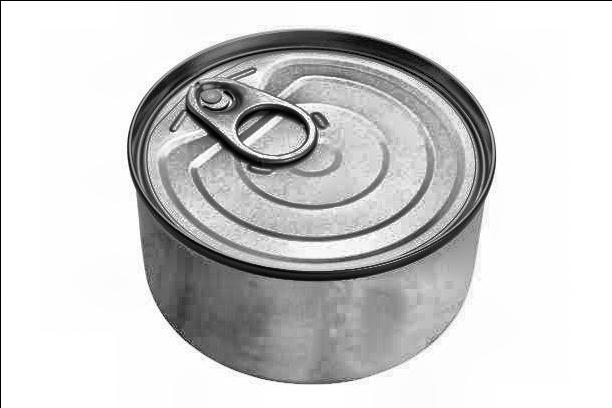can: (104, 19, 544, 390)
